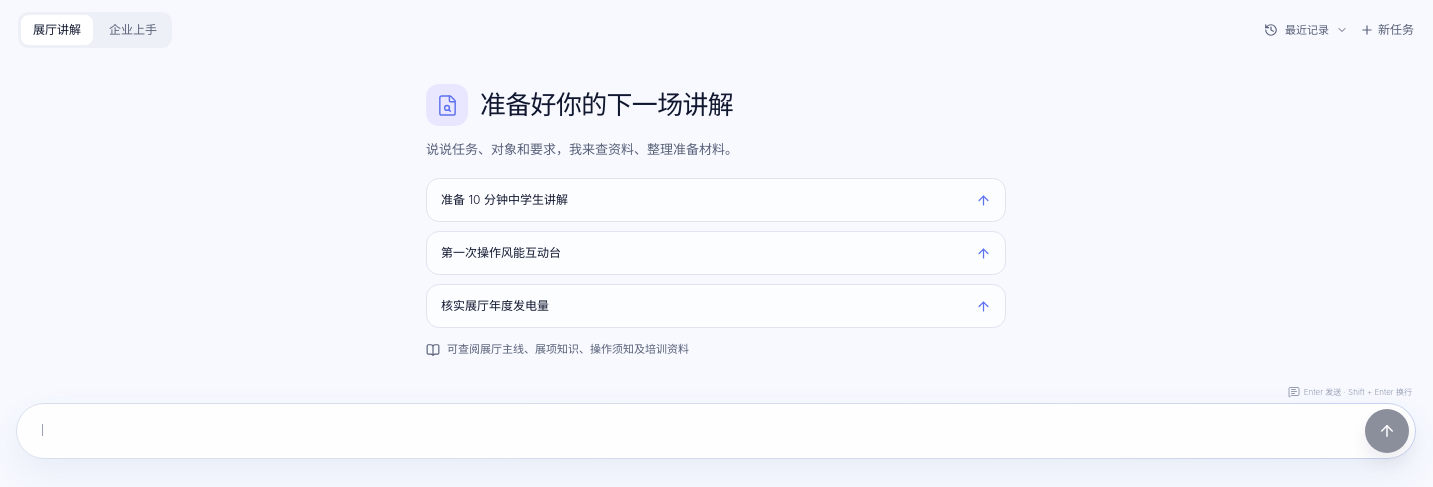
Test case: task preparation › reopens persisted task history
Click the heading "最近记录": (1306, 30) [1264, 23, 1348, 37]
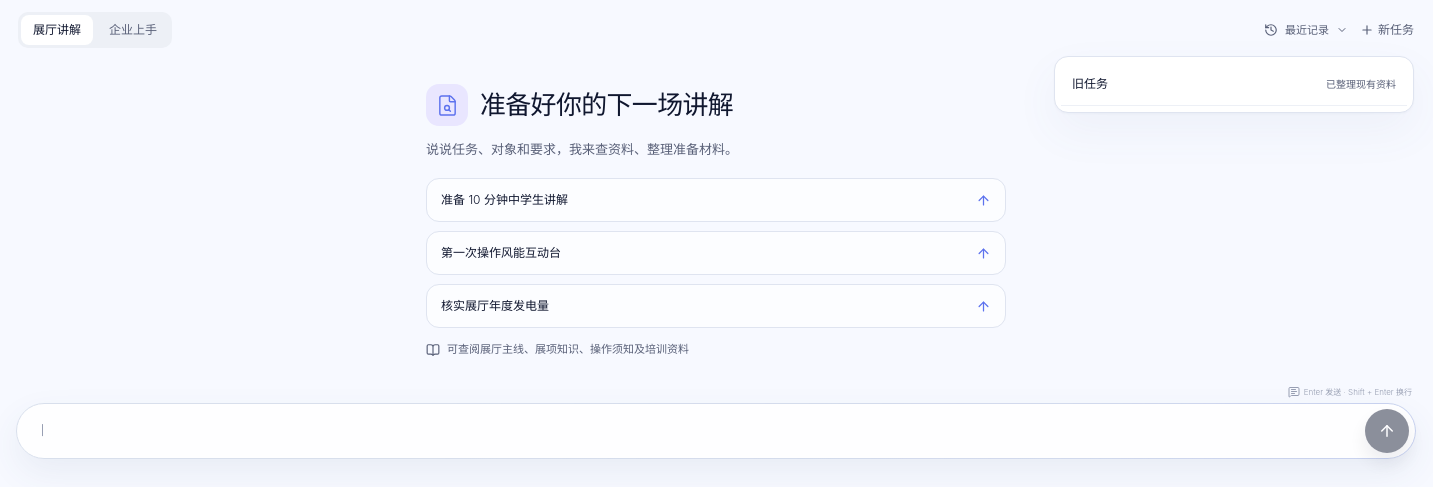
Click the button "旧任务 已整理现有资料": (1090, 84) [1061, 63, 1407, 106]
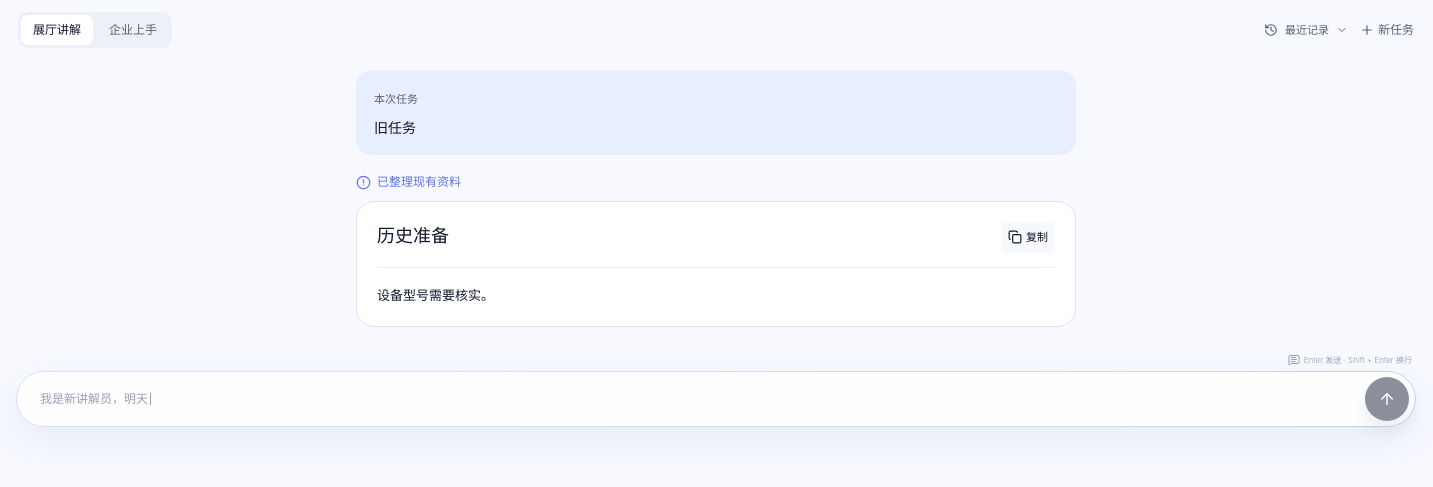
Expected: the message reads "已整理现有资料", [377, 174, 461, 189]
Expected: the heading "历史准备" is shown, [377, 222, 449, 249]
